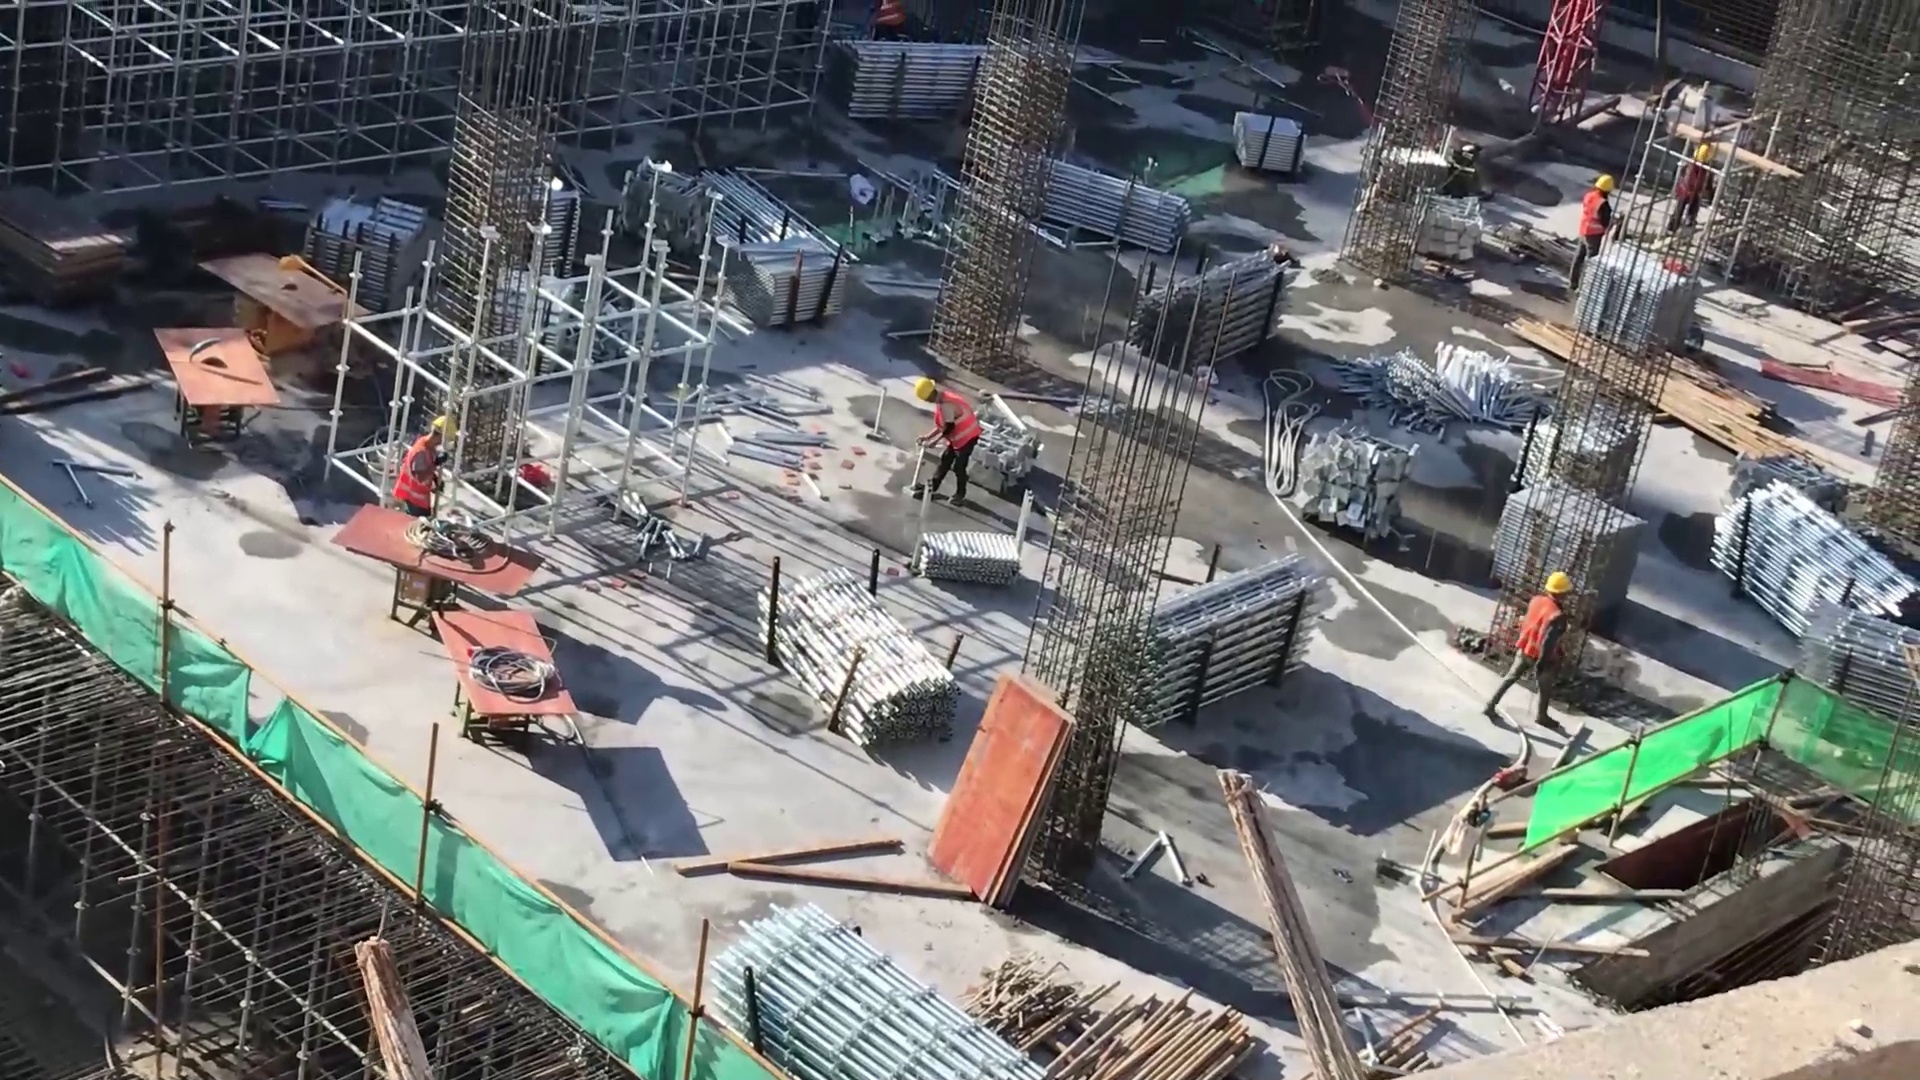board: (917, 663, 1084, 920), (1, 172, 130, 308)
cutter: (327, 502, 554, 624), (418, 603, 581, 755), (156, 319, 291, 463), (205, 245, 356, 366)
helmet: (915, 370, 942, 414), (430, 410, 459, 444), (1548, 571, 1573, 607), (1594, 171, 1614, 195), (1695, 144, 1714, 165)
person: (1480, 557, 1573, 741), (389, 409, 455, 593), (915, 364, 981, 522), (1571, 165, 1617, 295), (1666, 139, 1720, 235)
scaffold: (695, 886, 1044, 1080), (754, 559, 968, 772), (1097, 549, 1324, 736), (1702, 475, 1920, 640), (1116, 237, 1313, 397), (1018, 146, 1191, 262), (840, 26, 1027, 127), (700, 162, 859, 272), (300, 194, 436, 316), (720, 238, 849, 332), (1829, 601, 1920, 733), (906, 524, 1025, 585)
vest: (1516, 595, 1564, 679), (393, 436, 438, 517), (932, 394, 980, 456), (1580, 193, 1608, 251)
